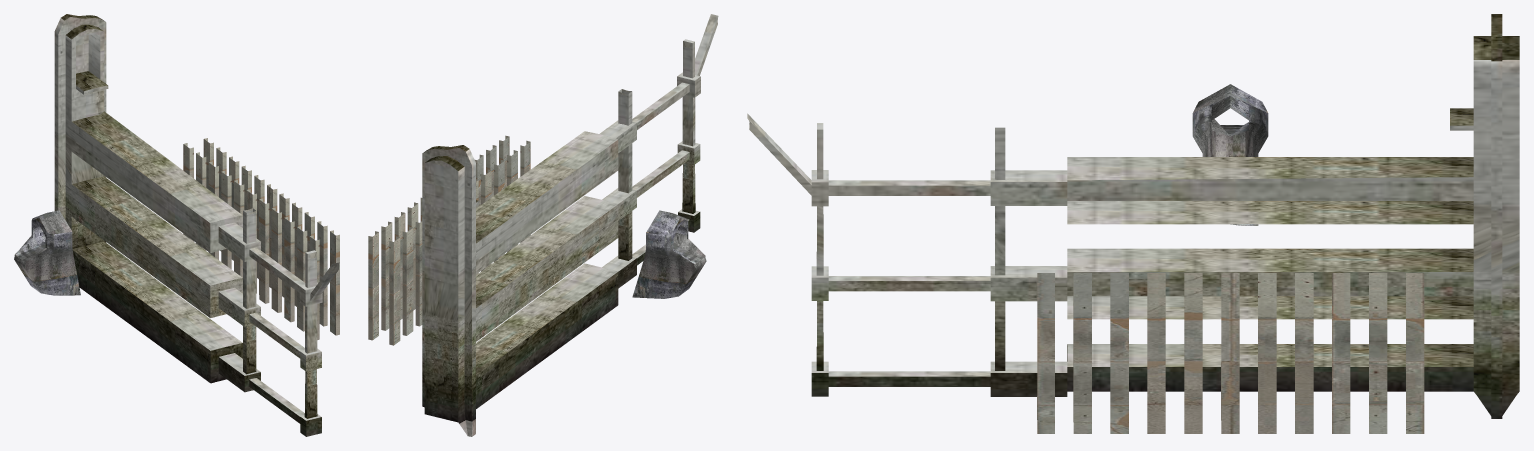
3 renders of one model, left to right at view 1: azimuth 30°, elevation 25°; view 2: azimuth 150°, elevation 25°; view 3: azimuth 270°, elevation 25°, orthographic. The views are drawn at different scales.
Visible parts, largest first — view 1: Elemento del escenario 1, Columnas, Elemento del escenario 2; view 2: Elemento del escenario 1, Columnas, Elemento del escenario 2; view 3: Elemento del escenario 1, Columnas, Elemento del escenario 2.
Part boxes in pixels (x1,y1,x2,y2): Elemento del escenario 1: (54,14,339,436); Columnas: (183,138,339,339); Elemento del escenario 2: (14,210,80,295); Elemento del escenario 1: (422,14,718,436); Columnas: (368,135,530,345); Elemento del escenario 2: (632,210,706,298); Elemento del escenario 1: (747,14,1519,418); Columnas: (1037,273,1424,433); Elemento del escenario 2: (1192,84,1268,225).
Bounding box in the file's own units: 2520 × 2611 × 4514.
